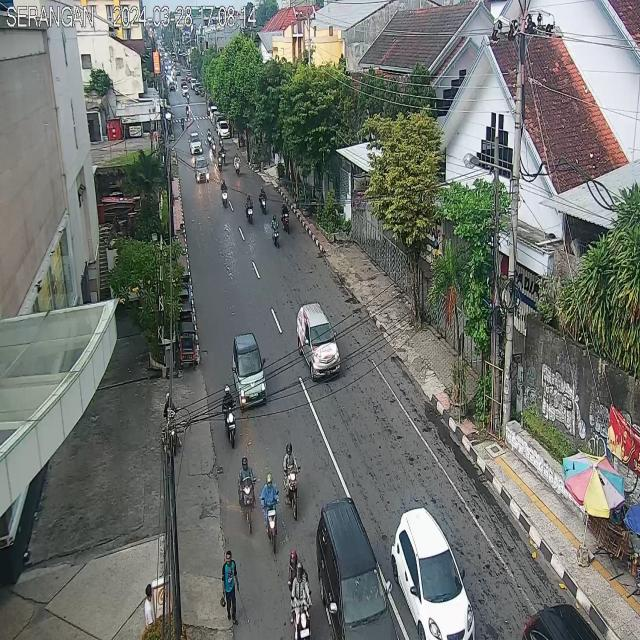car: (316, 496, 400, 640), (390, 506, 475, 640), (296, 302, 341, 379), (234, 332, 268, 408), (194, 155, 210, 183), (189, 132, 202, 154)
motorcycle: (286, 548, 314, 640), (236, 456, 258, 535), (260, 472, 280, 554), (282, 443, 300, 521), (222, 384, 236, 449), (271, 214, 280, 249), (244, 194, 254, 225), (281, 200, 290, 234), (220, 179, 228, 209), (259, 186, 267, 215), (233, 153, 242, 178), (216, 152, 223, 174), (210, 136, 217, 157), (220, 144, 226, 167)
